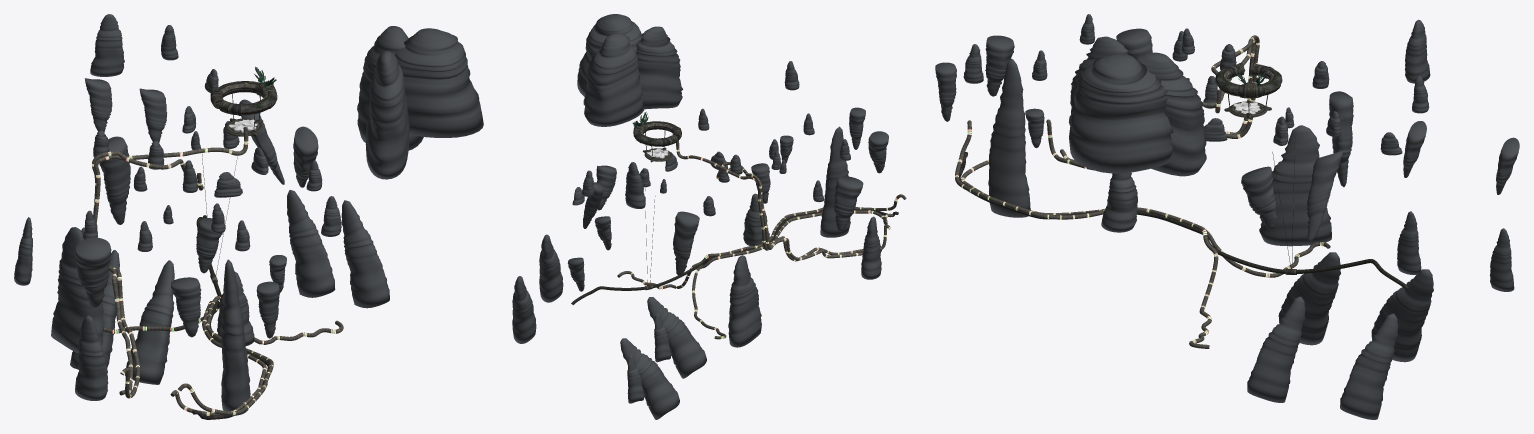
The model's file is slatemines5SpireCablePatch.fbx.
3 views of the same model, side by side, from view 1: azimuth 30°, elevation 25°; view 2: azimuth 150°, elevation 25°; view 3: azimuth 270°, elevation 25° (orthographic). The views are drawn at different scales.
Visible parts, largest first — view 1: SMPillars, SMPowerTubes2, SMPowerTubes1, SMShip1; view 2: SMPillars, SMPowerTubes2, SMPowerTubes1, SMShip1; view 3: SMPillars, SMPowerTubes2, SMShip1, SMPowerTubes1.
Part boxes in pixels (x1,y1,x2,y2): SMPillars: [14, 14, 483, 415]; SMPowerTubes2: [103, 154, 343, 419]; SMPowerTubes1: [91, 127, 248, 398]; SMShip1: [210, 66, 277, 136]; SMPillars: [512, 14, 888, 419]; SMPowerTubes2: [571, 188, 906, 339]; SMPowerTubes1: [676, 140, 890, 261]; SMShip1: [632, 112, 681, 162]; SMPillars: [935, 14, 1519, 419]; SMPowerTubes2: [955, 120, 1408, 348]; SMShip1: [1215, 62, 1282, 119]; SMPowerTubes1: [1046, 35, 1259, 170].
Bounding box in the file's own units: 36506 × 34455 × 45406.
